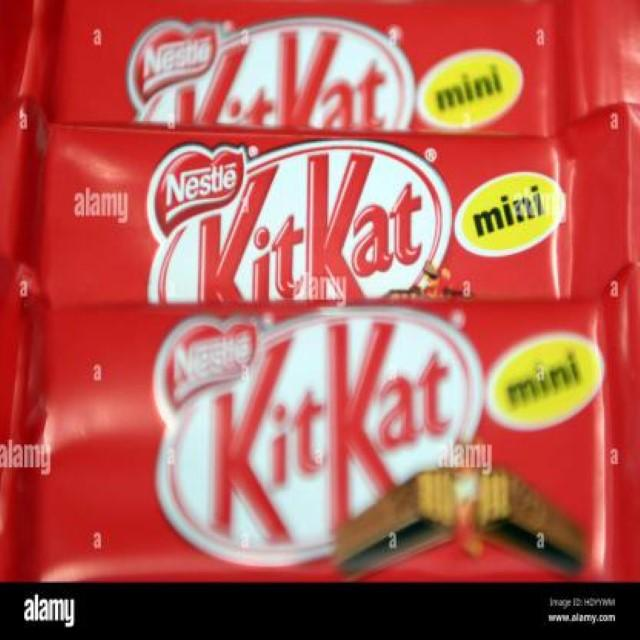kitkat_chocolate: (15, 305, 623, 570), (0, 150, 640, 292), (3, 0, 640, 130)
